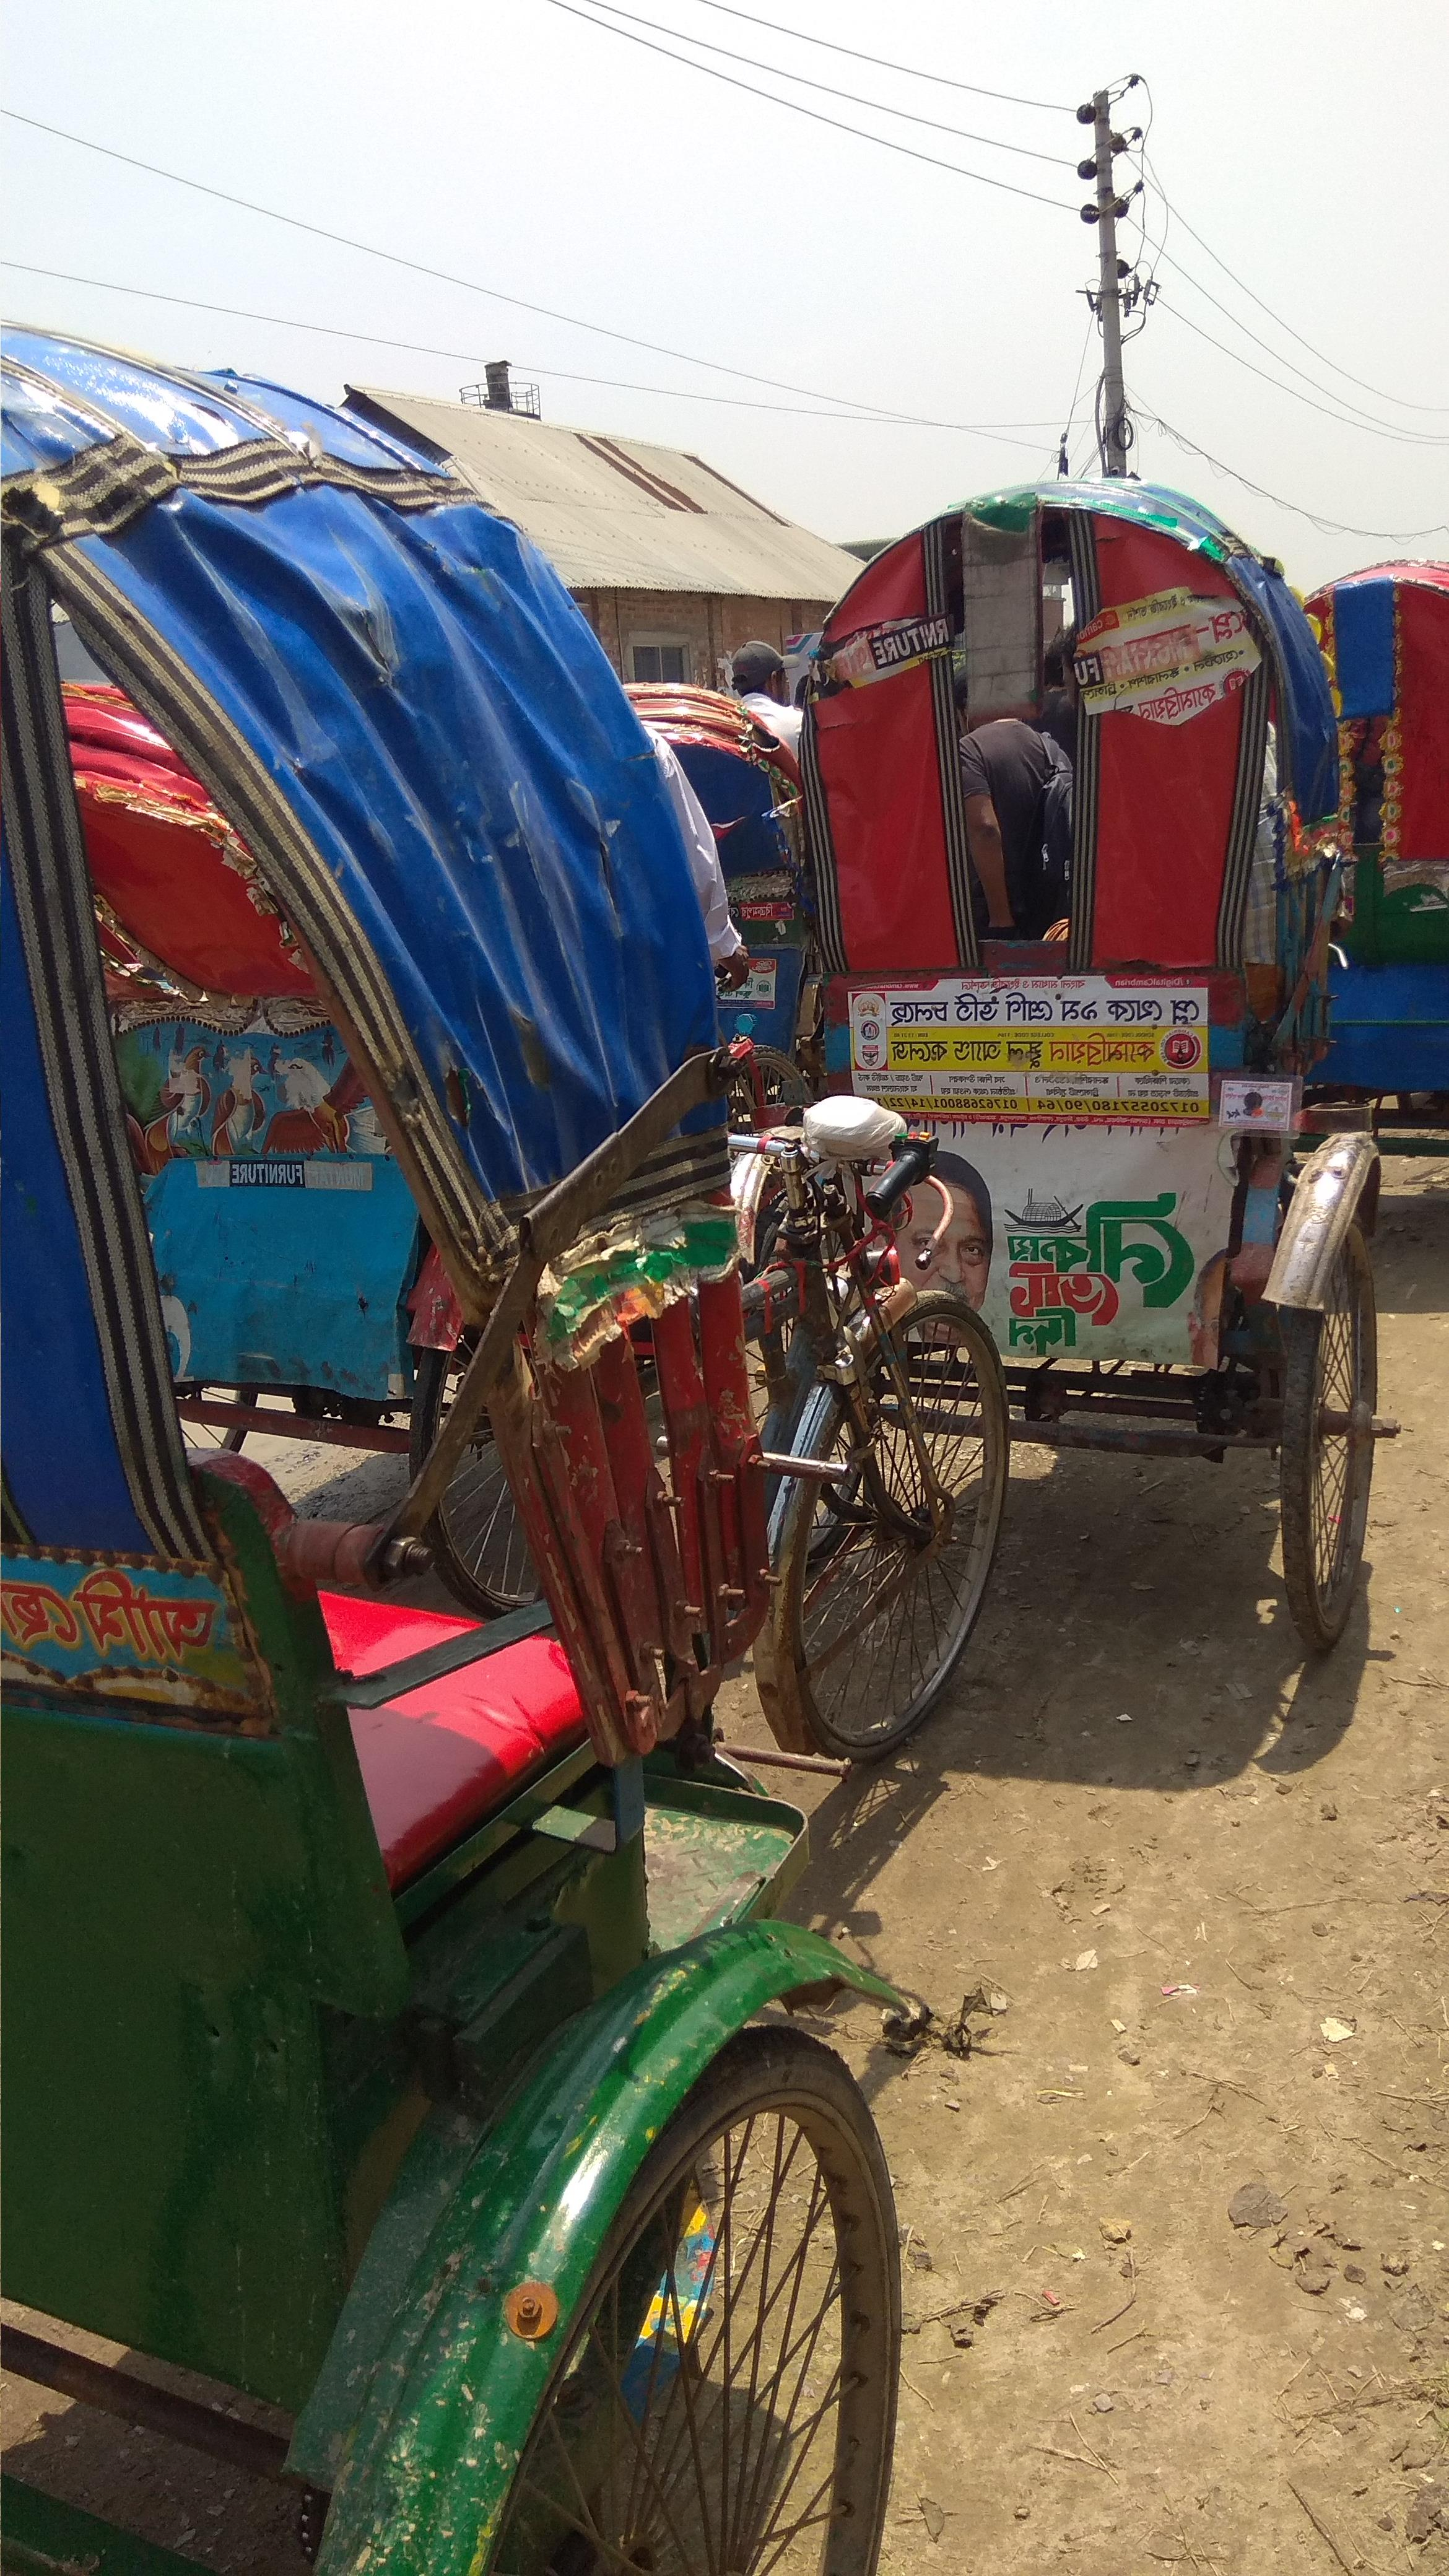Rickshaw: (19, 251, 899, 2558), (801, 407, 1398, 1741), (65, 667, 545, 1647), (616, 625, 888, 1403), (1284, 501, 1447, 1316)
